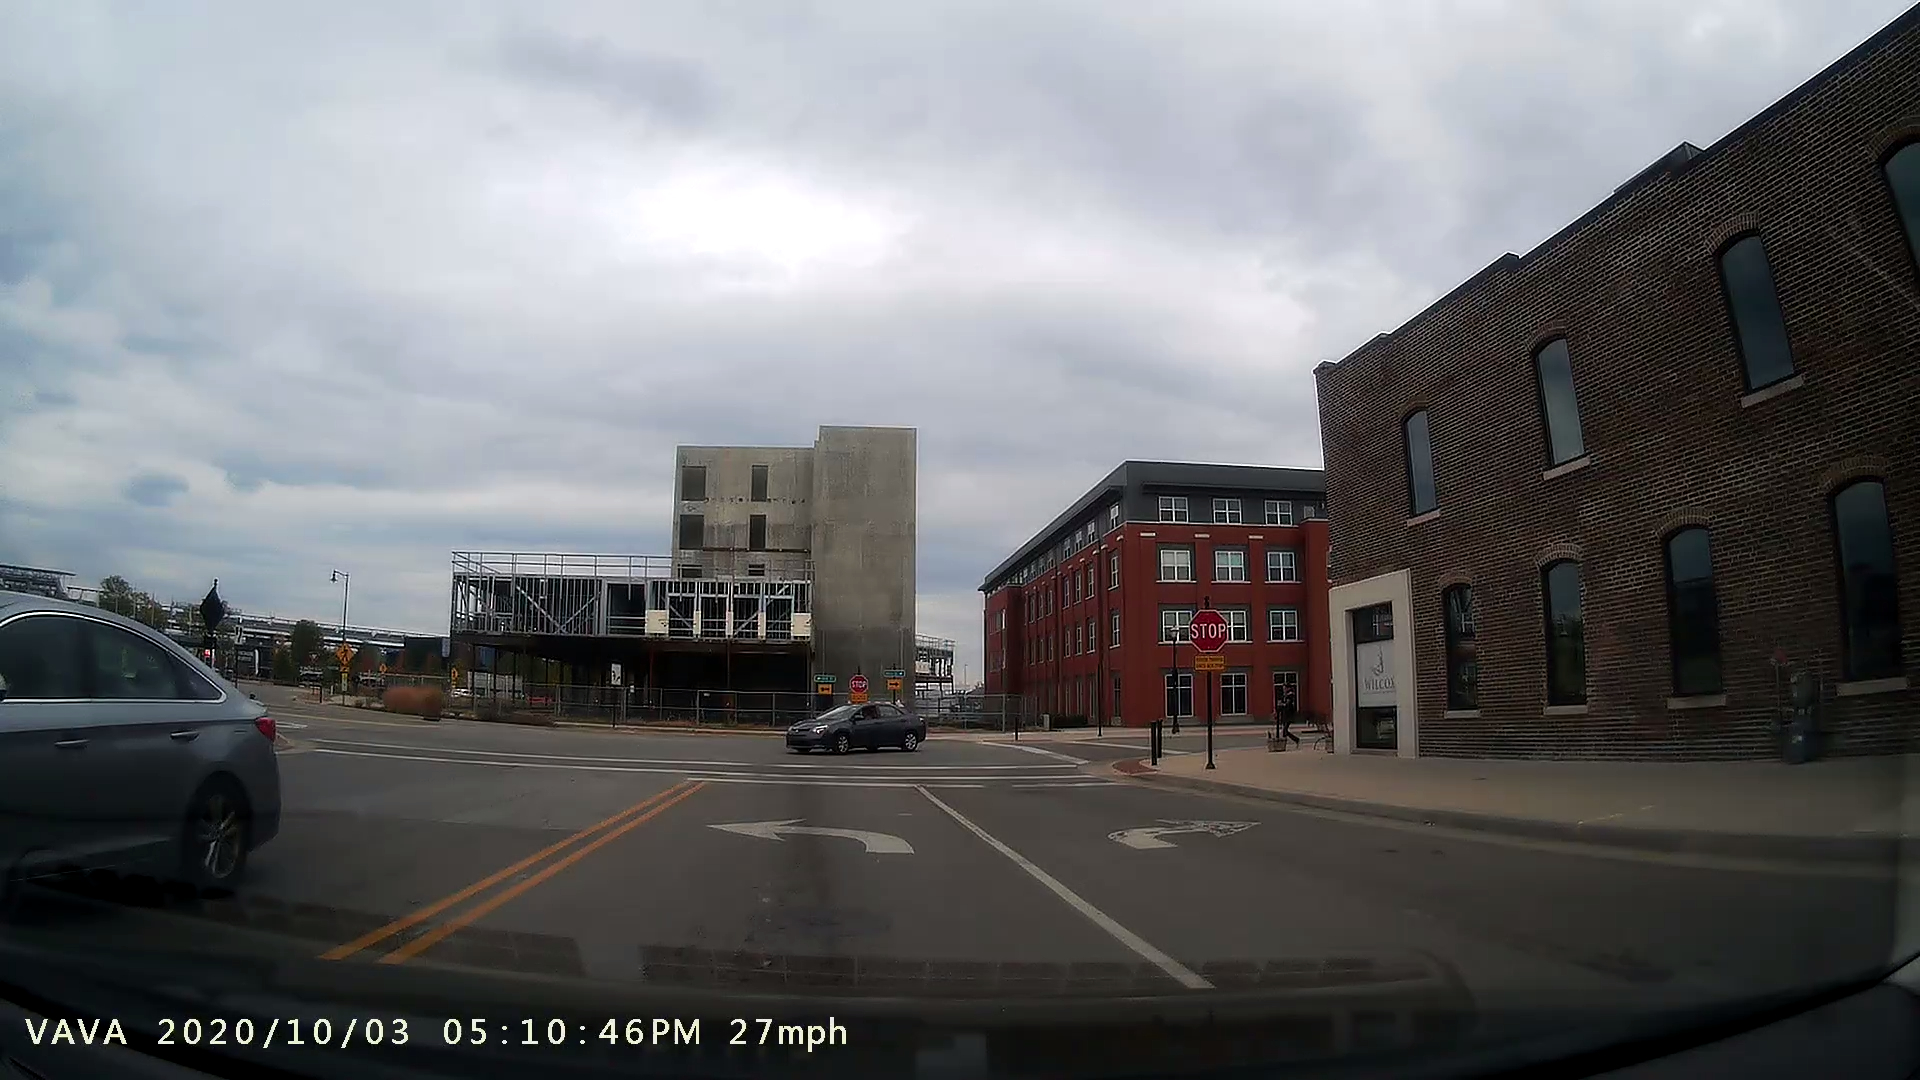left_turn: (698, 799, 924, 870)
right_turn: (1100, 800, 1275, 869)
